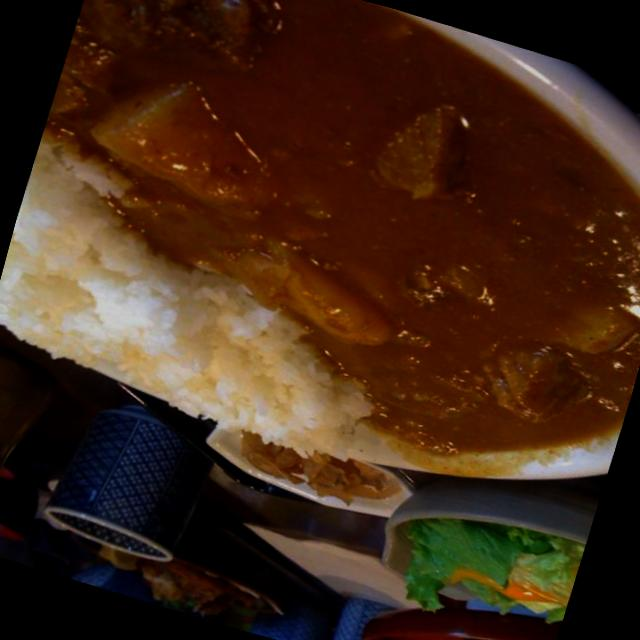Beef Curry: (0, 0, 640, 475)
